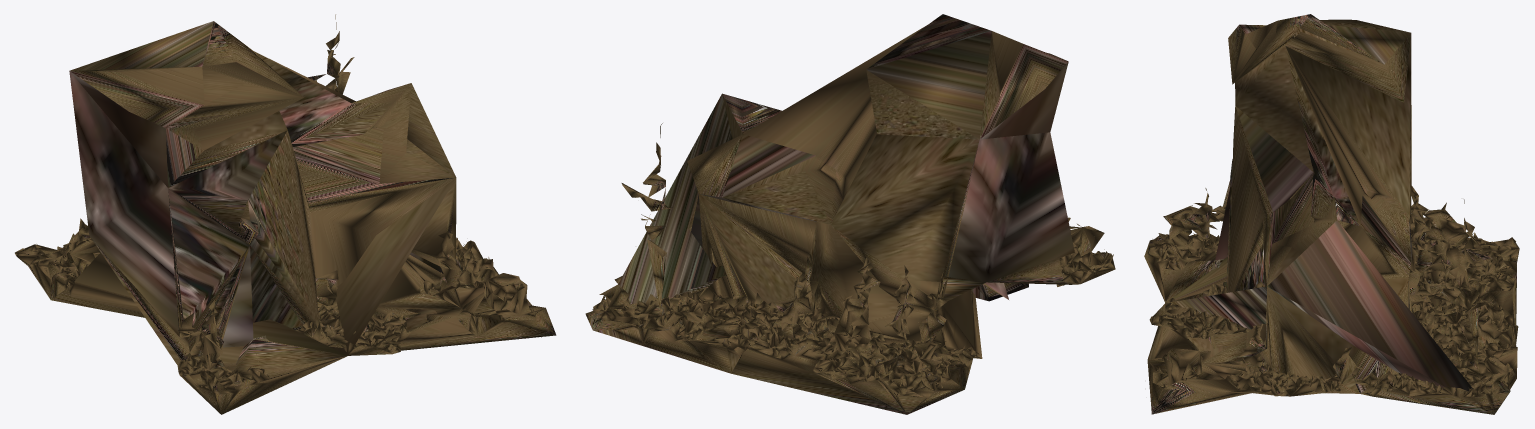
The model's file is Vintage_Stone_Villa.glb.
3 views of the same model, side by side, from view 1: azimuth 30°, elevation 25°; view 2: azimuth 150°, elevation 25°; view 3: azimuth 270°, elevation 25° (orthographic). The views are drawn at different scales.
Parts seen in each view (by area): view 1: Vintage_Stone_Villa; view 2: Vintage_Stone_Villa; view 3: Vintage_Stone_Villa.
Part boxes in pixels (left/top/right/bottom): Vintage_Stone_Villa: left=15, top=14, right=556, bottom=414; Vintage_Stone_Villa: left=585, top=14, right=1115, bottom=414; Vintage_Stone_Villa: left=1144, top=14, right=1519, bottom=414.
Size of the model in its own units: 1.86 by 1.56 by 1.85.
Materials: 1 (1 with a texture image).
